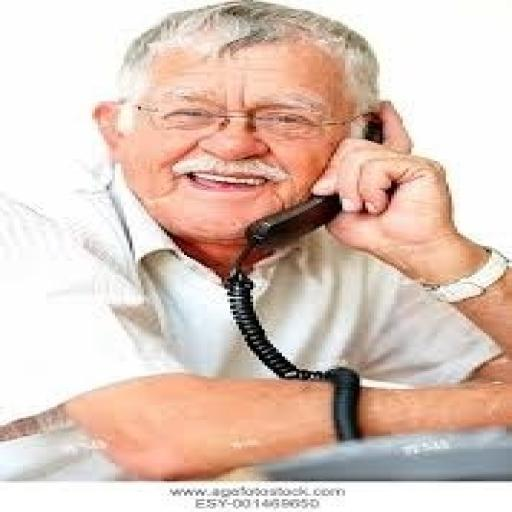calling: (0, 0, 509, 481)
